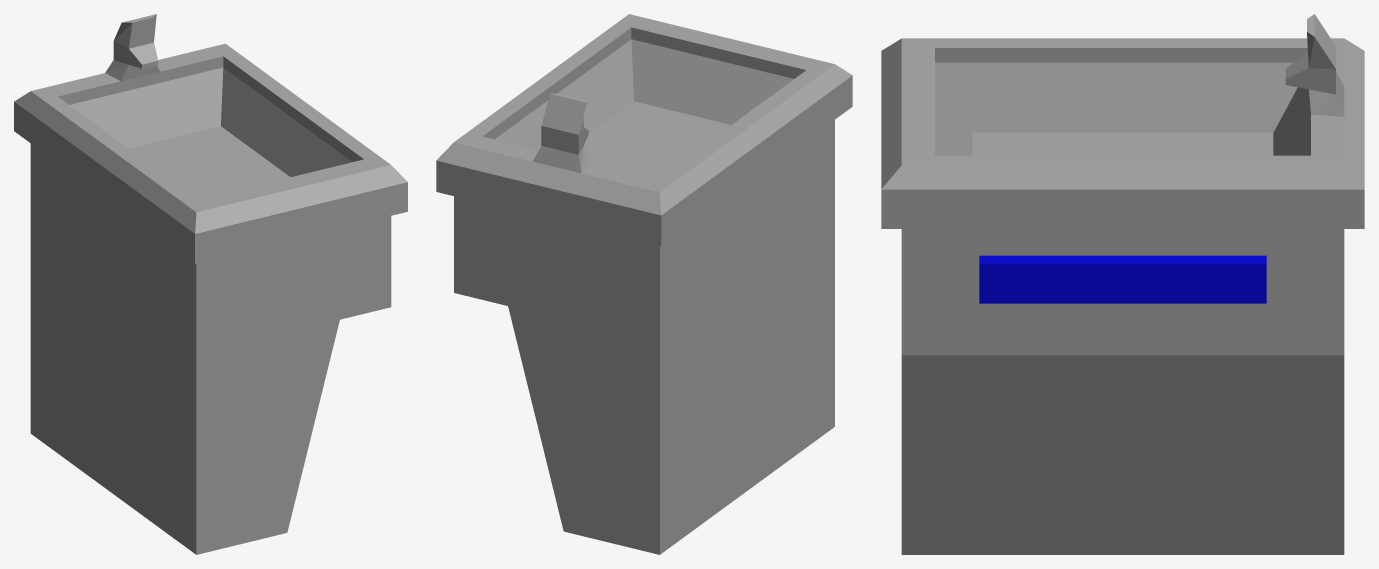
File: water_fountain.fbx
The picture shows the model from 3 angles, left to right: view 1: azimuth 30°, elevation 25°; view 2: azimuth 150°, elevation 25°; view 3: azimuth 270°, elevation 25°; orthographic projection. The views are drawn at different scales.
Visible parts, largest first — view 1: water_fountain; view 2: water_fountain; view 3: water_fountain.
Part boxes in pixels (x1=…): water_fountain: x1=14, y1=14, x2=407, y2=554; water_fountain: x1=436, y1=14, x2=852, y2=554; water_fountain: x1=881, y1=14, x2=1364, y2=554.
Size of the model in its own units: 75.22 by 133 by 109.
